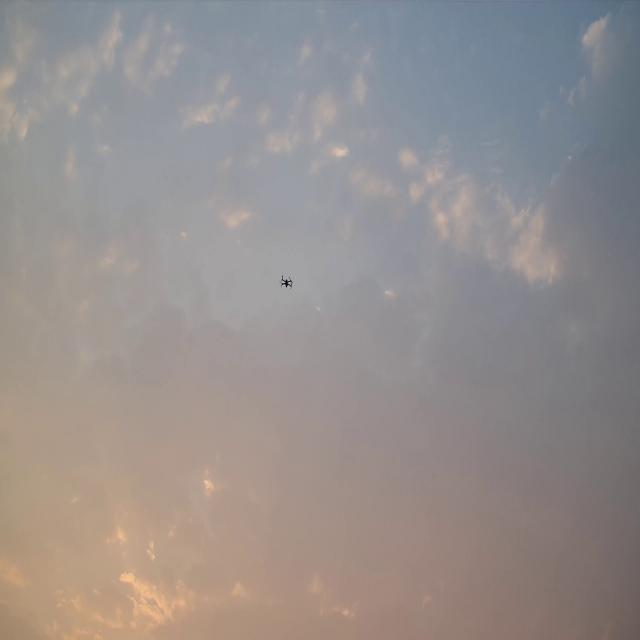UAV: (279, 274, 293, 290)
